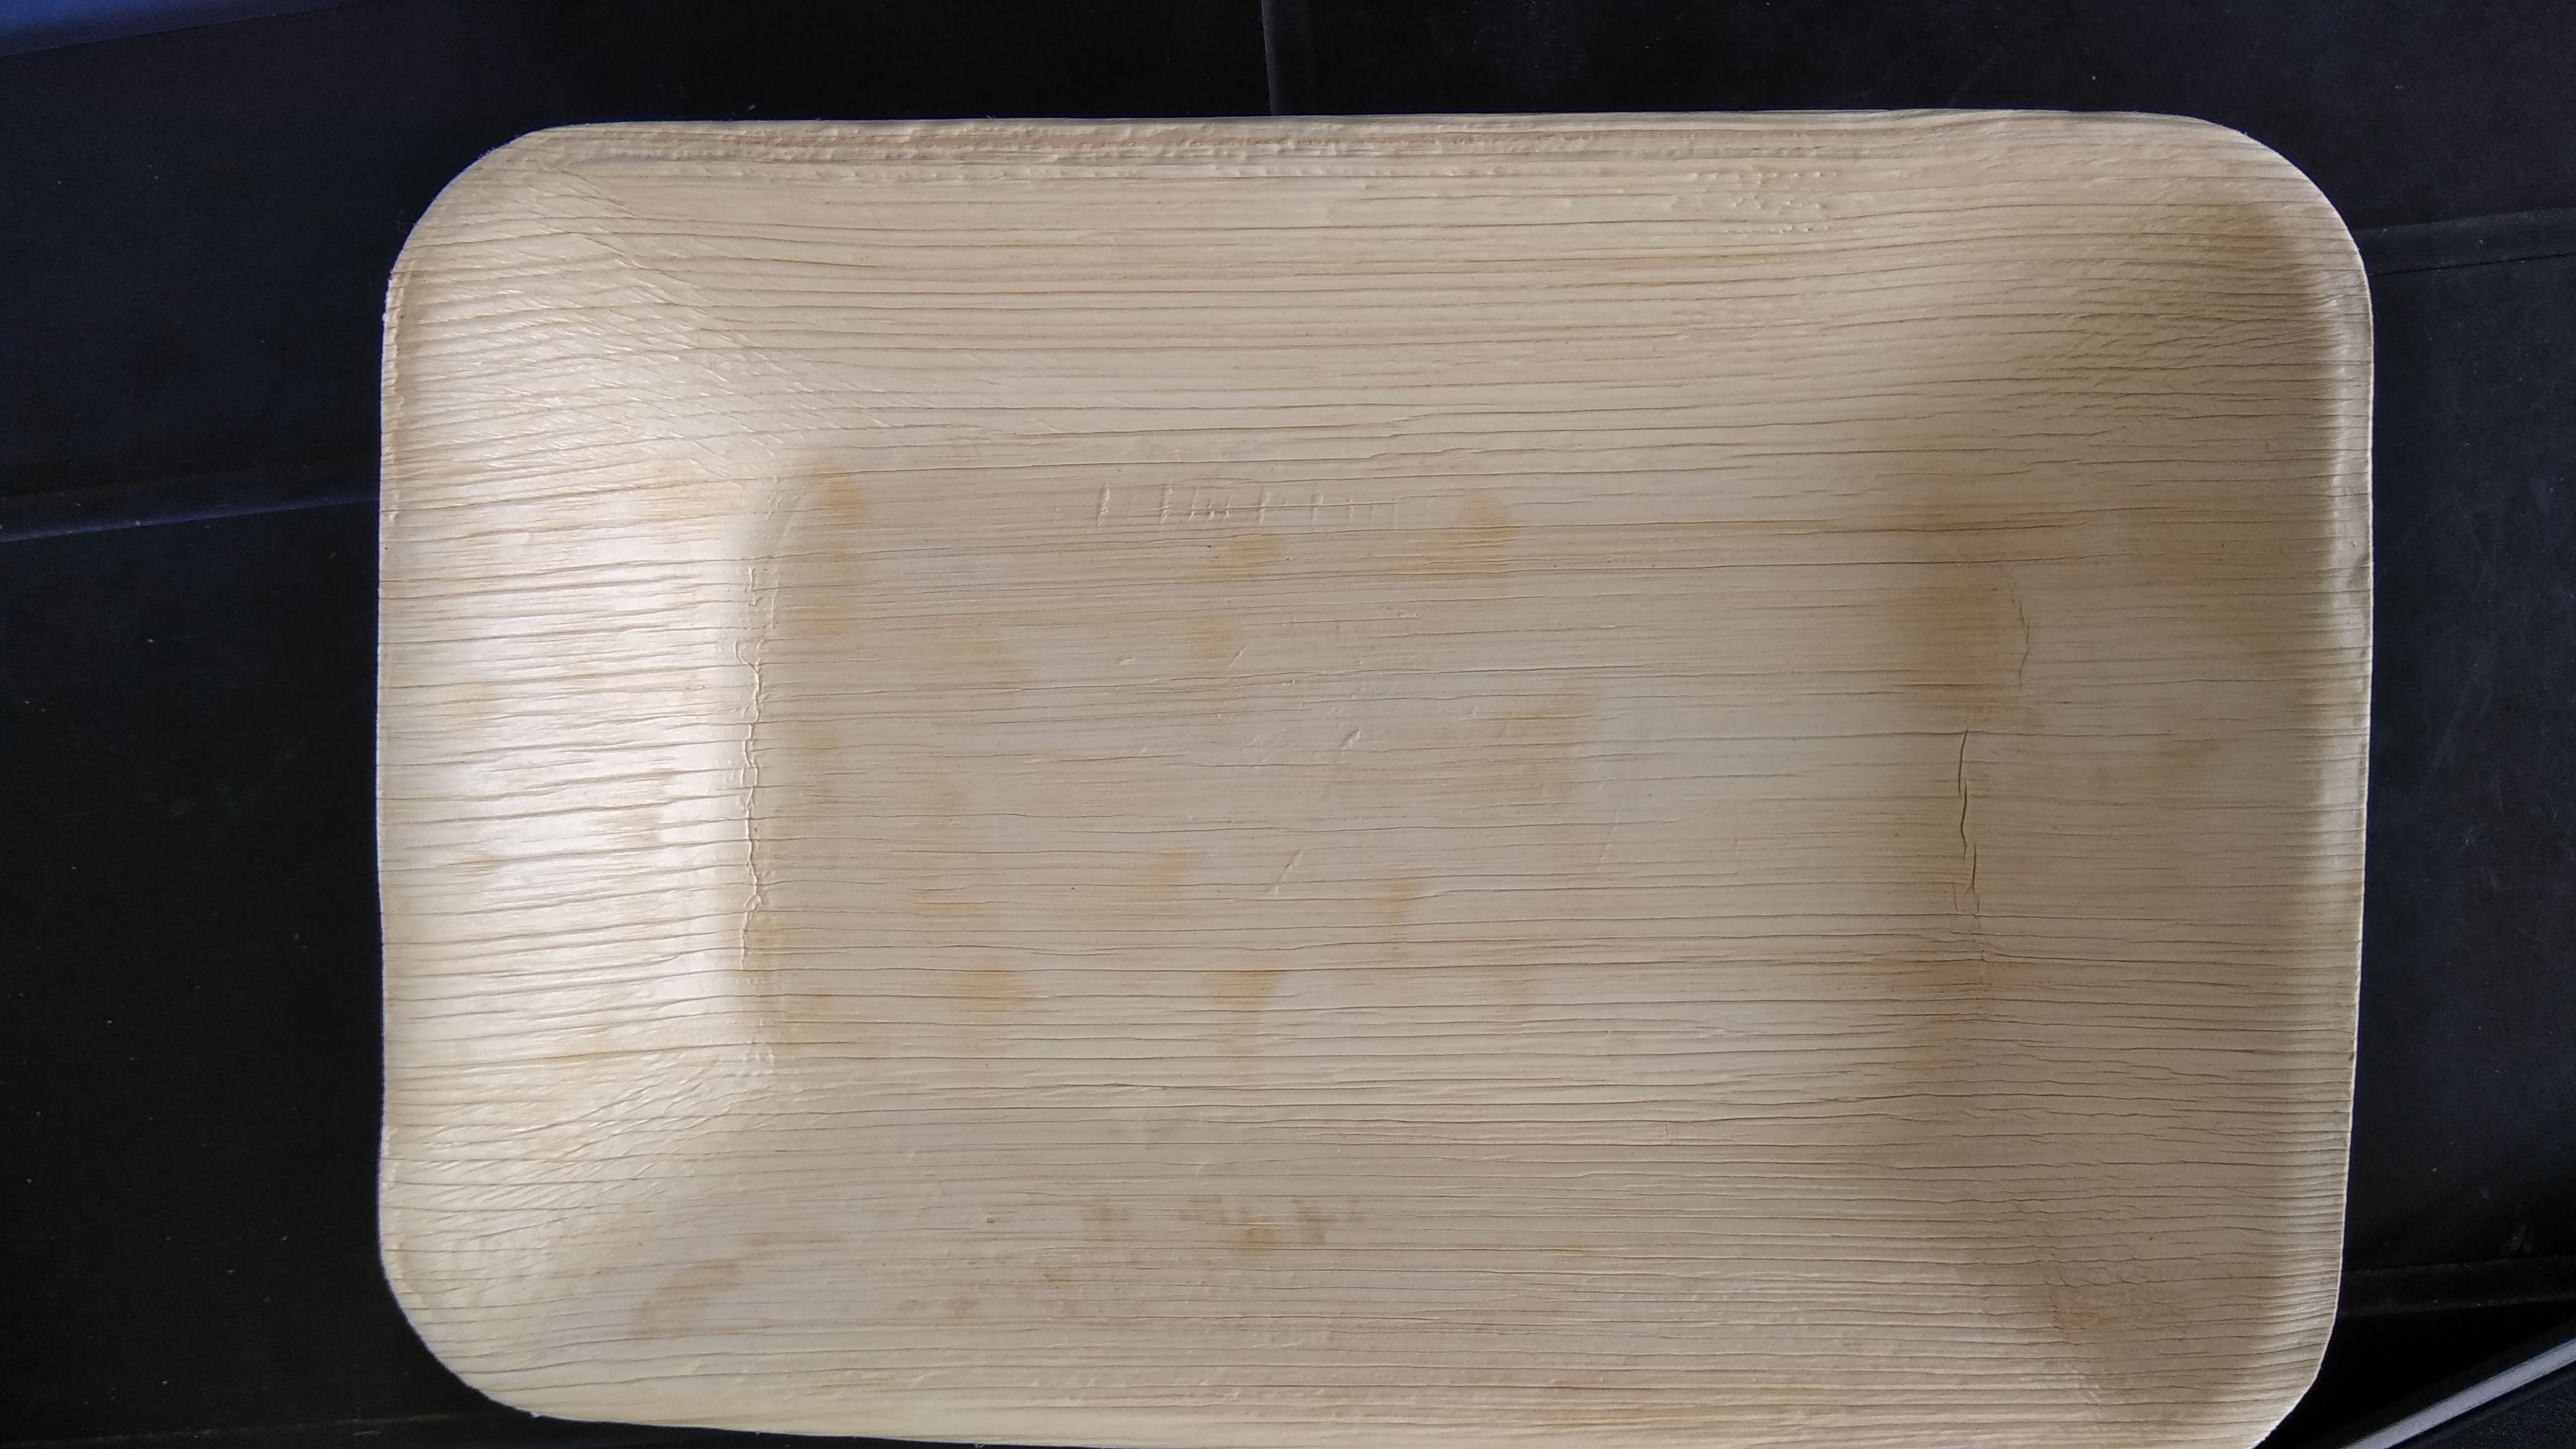areca plate: (375, 110, 2358, 1449)
